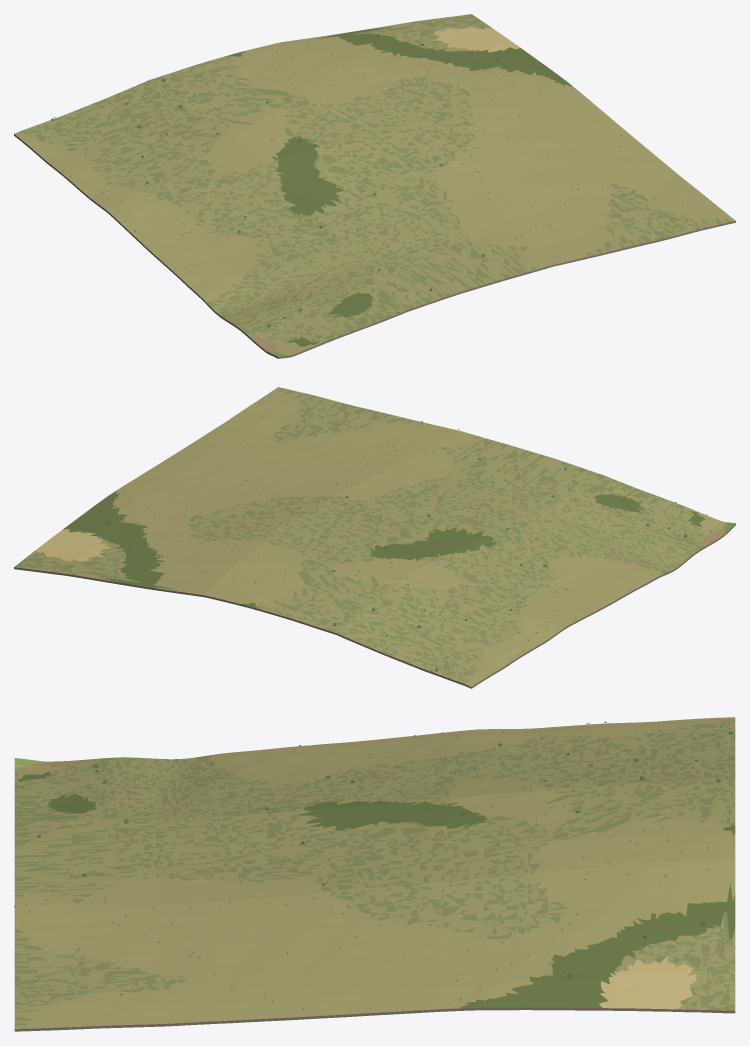
File: parca_+1_+0-yakin.glb
3 views of the same model, one above another, from view 1: azimuth 30°, elevation 25°; view 2: azimuth 150°, elevation 25°; view 3: azimuth 270°, elevation 25° (orthographic). The views are drawn at different scales.
Visible parts, largest first — view 1: parca_+1_+0_arazi, parca_+1_+0_bitkiler; view 2: parca_+1_+0_arazi, parca_+1_+0_bitkiler; view 3: parca_+1_+0_arazi, parca_+1_+0_bitkiler.
Part boxes in pixels (x1,y1,x2,y2): parca_+1_+0_arazi: (14,14,735,358); parca_+1_+0_bitkiler: (36,21,688,348); parca_+1_+0_arazi: (14,387,735,688); parca_+1_+0_bitkiler: (42,409,710,675); parca_+1_+0_arazi: (14,717,735,1031); parca_+1_+0_bitkiler: (14,721,735,1012).
Size of the model in its own units: 1000 by 131 by 1002.
